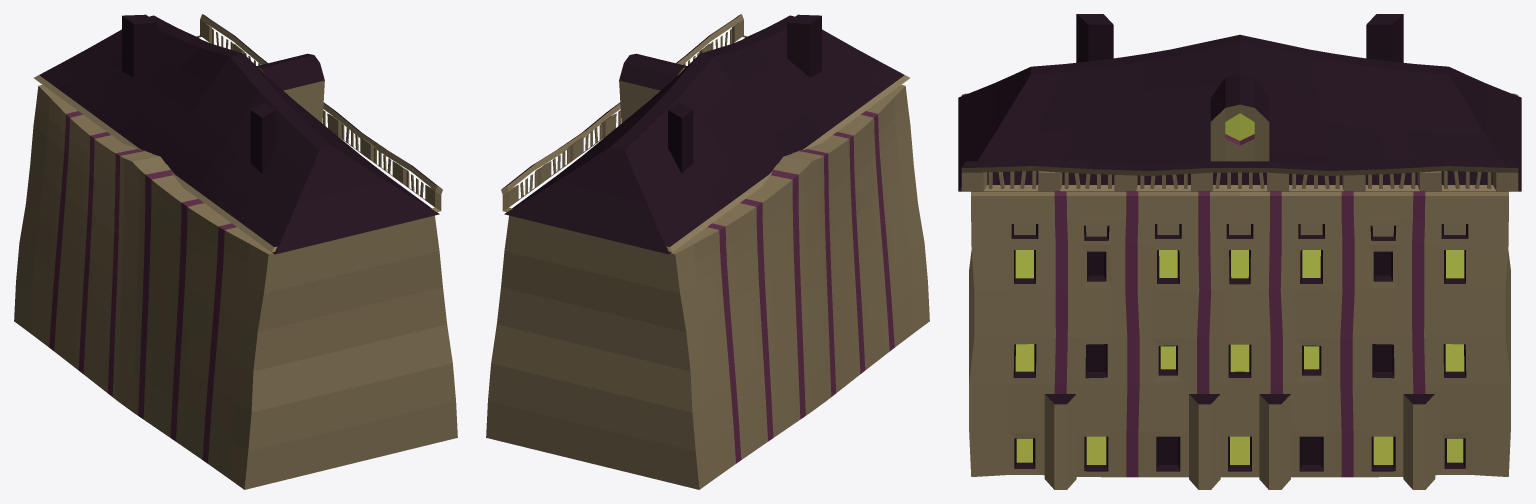
The model's file is Palace.glb.
3 views of the same model, side by side, from view 1: azimuth 30°, elevation 25°; view 2: azimuth 150°, elevation 25°; view 3: azimuth 270°, elevation 25° (orthographic). The views are drawn at different scales.
Parts seen in each view (by area): view 1: Palace, Palace.001; view 2: Palace, Palace.001; view 3: Palace, Palace.001.
Boxes of the visible parts, x1,y1,x2,y2 form: Palace: [14, 14, 457, 489]; Palace.001: [40, 14, 439, 254]; Palace: [486, 14, 929, 489]; Palace.001: [504, 14, 903, 254]; Palace: [961, 74, 1518, 489]; Palace.001: [958, 14, 1521, 191].
Bounding box in the file's own units: 24.06 × 31.05 × 41.91.
1 material, 1 textured.
